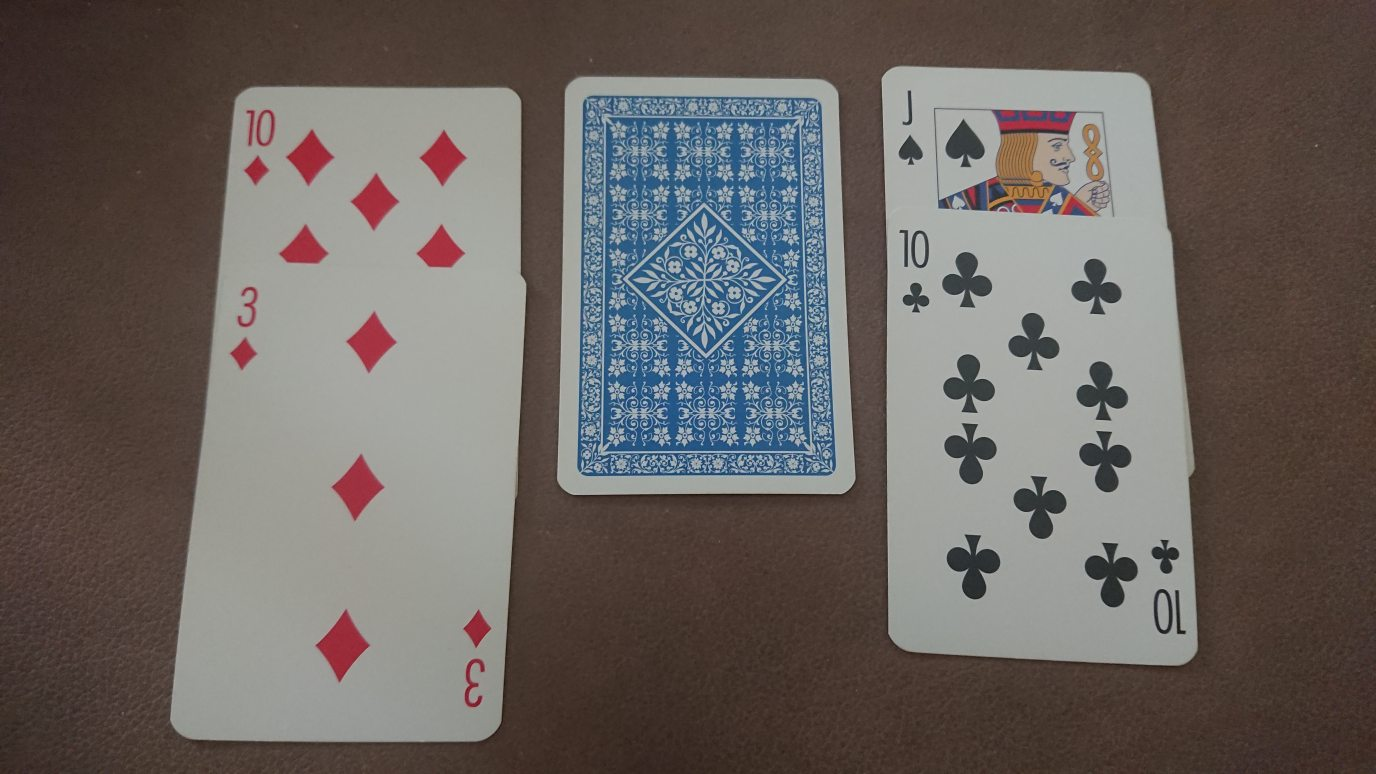10C: (895, 225, 934, 320)
10D: (237, 103, 280, 189)
3D: (225, 283, 265, 374)
BACK: (555, 72, 858, 499)
JS: (892, 86, 927, 173)
